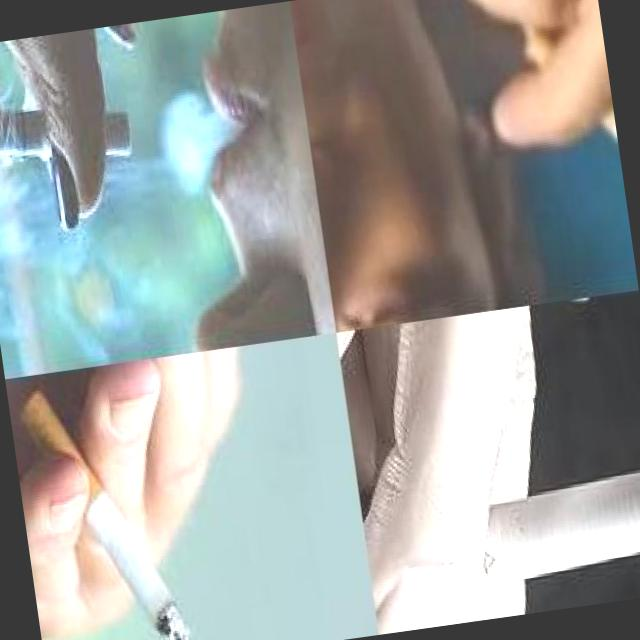smoke: (14, 371, 190, 640), (367, 443, 640, 610), (520, 12, 634, 262), (0, 76, 135, 180)
